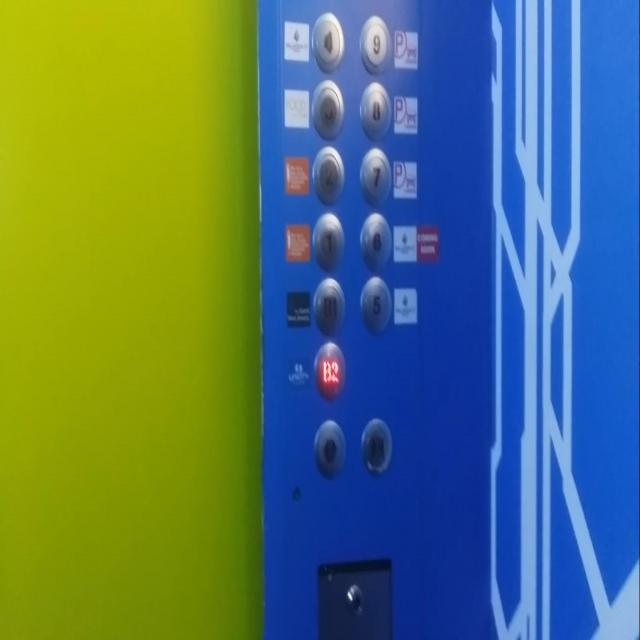1: (311, 212, 344, 270)
2: (310, 144, 344, 204)
4: (311, 11, 344, 72)
5: (359, 275, 392, 333)
6: (358, 212, 392, 272)
7: (359, 146, 392, 206)
8: (358, 78, 392, 140)
9: (358, 13, 391, 74)
B1: (312, 276, 346, 336)
B2: (313, 340, 345, 399)
blur: (311, 78, 344, 138)
close: (359, 416, 393, 476)
keyhole: (336, 570, 370, 619)
open: (313, 418, 348, 479)
